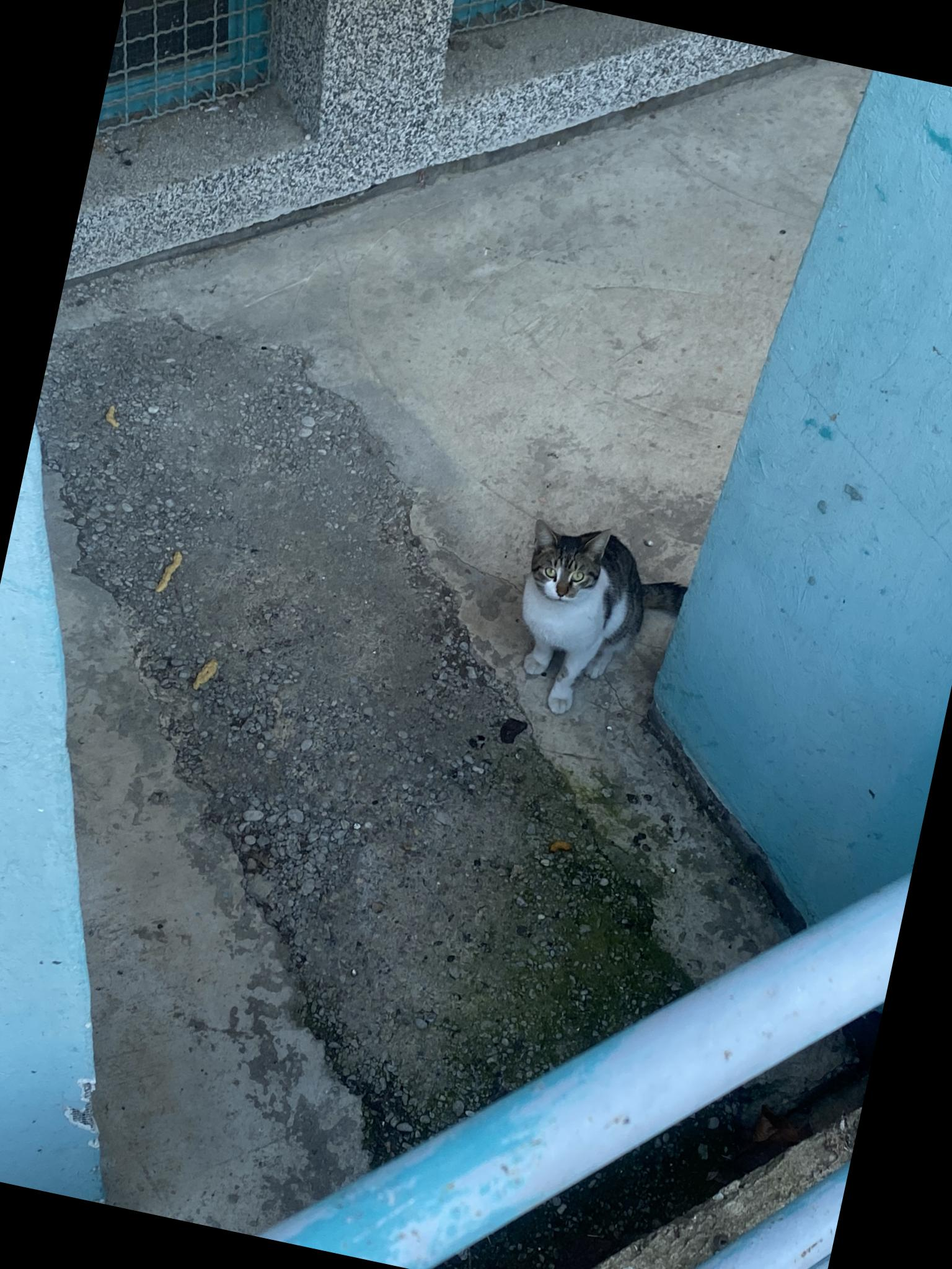macka: (498, 514, 698, 735)
